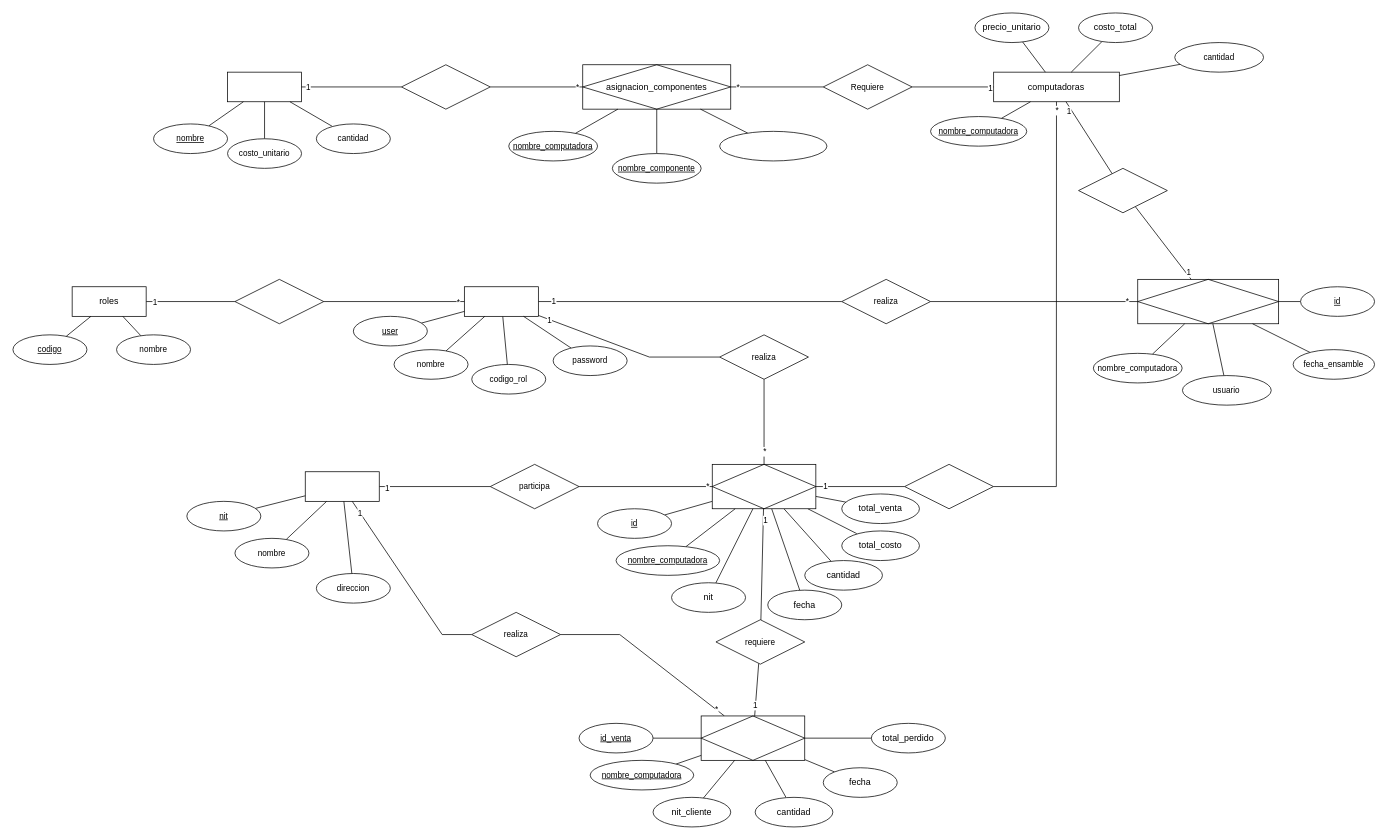
Image size: 1388x840. Some labels were removed from this diagram. The centre of each missing label's shape, as x and y in pixels:
asigna: (x=279, y=301)
cantidad_componentes: (x=773, y=146)
clientes: (x=342, y=486)
componentes: (x=264, y=86)
crea: (x=1122, y=190)
devoluciones: (x=752, y=737)
ensambles: (x=1208, y=301)
forma parte: (x=445, y=86)
incluye: (x=948, y=486)
usuarios: (x=501, y=301)
ventas: (x=764, y=486)
